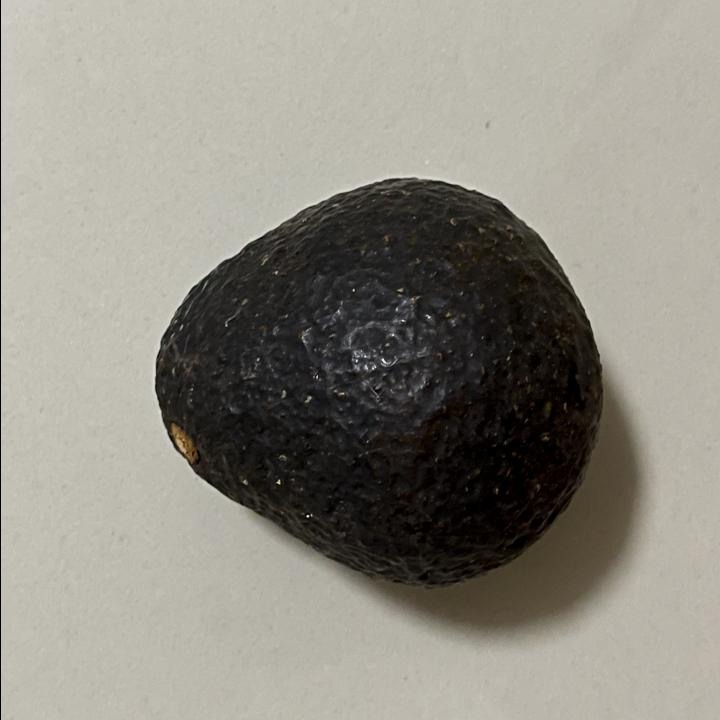Level2: (143, 166, 611, 598)
